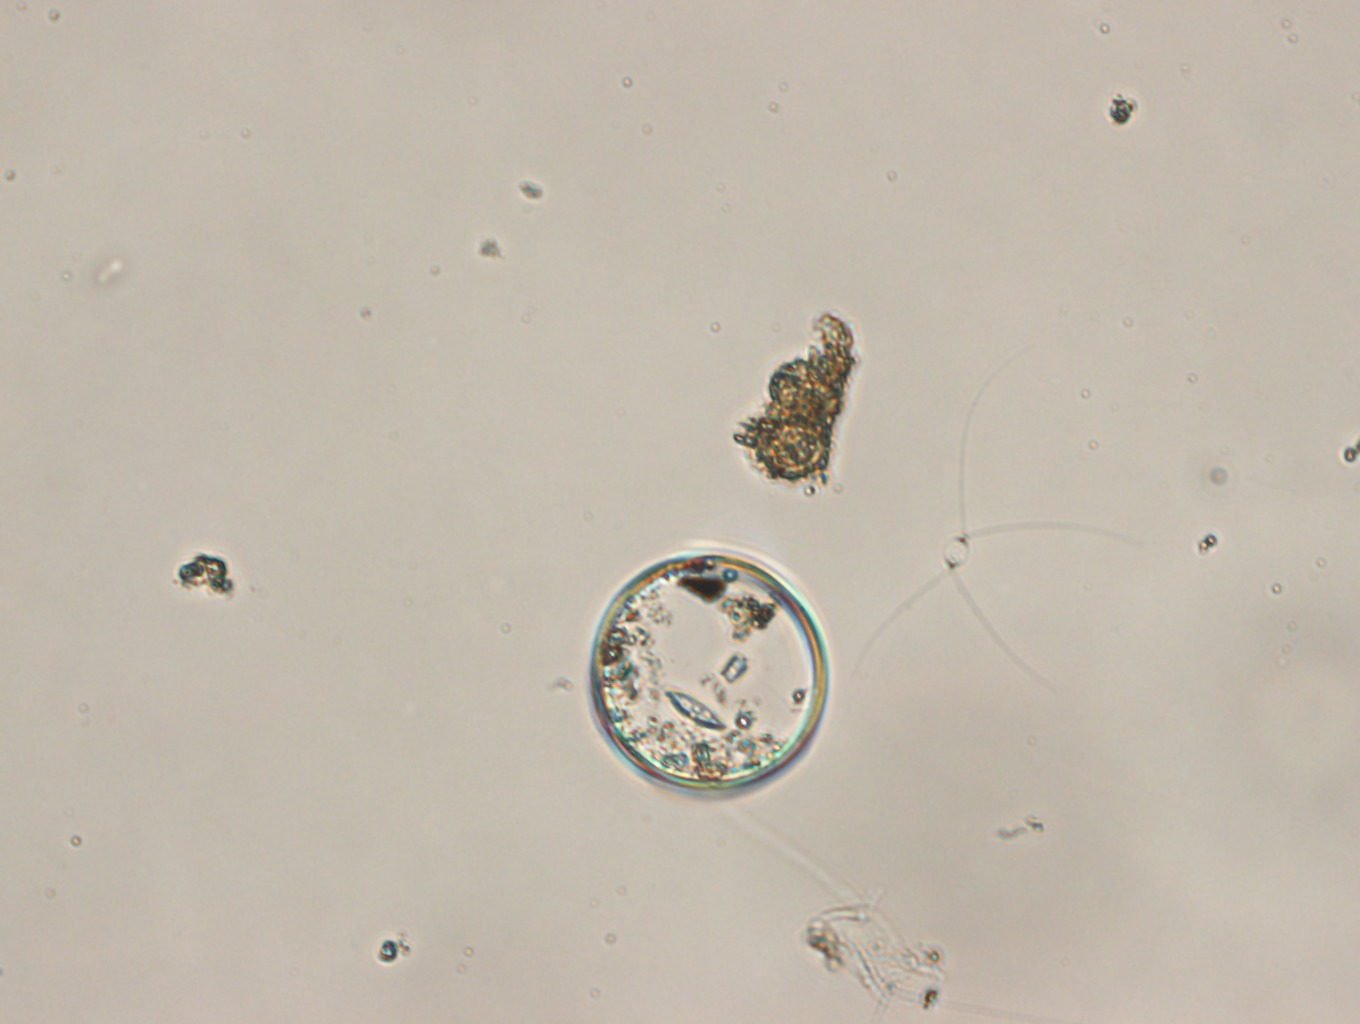chaetoceros: (849, 378, 1143, 691)
coscinodiscus: (588, 547, 829, 792)
